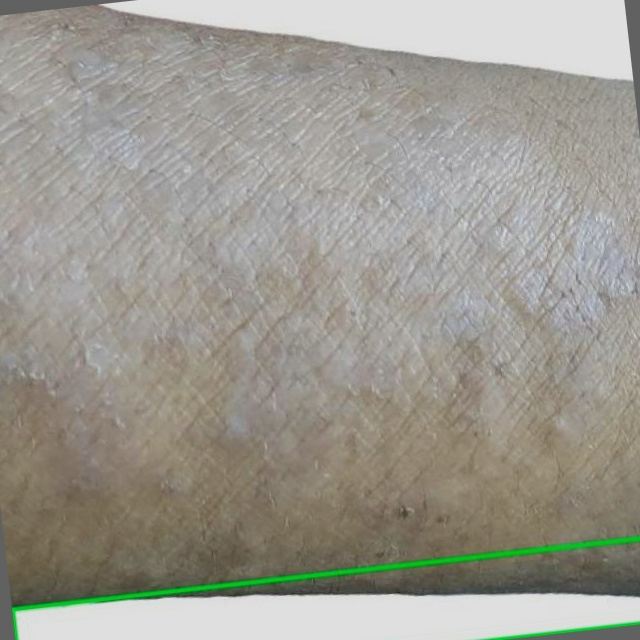Tinea Corporis: (12, 538, 639, 639)
